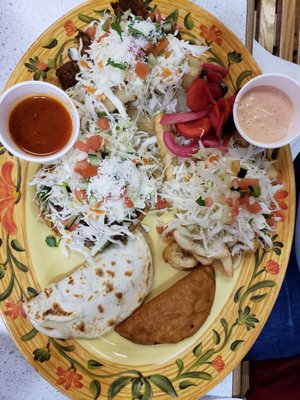sushi: (0, 81, 80, 165), (232, 73, 300, 150)
